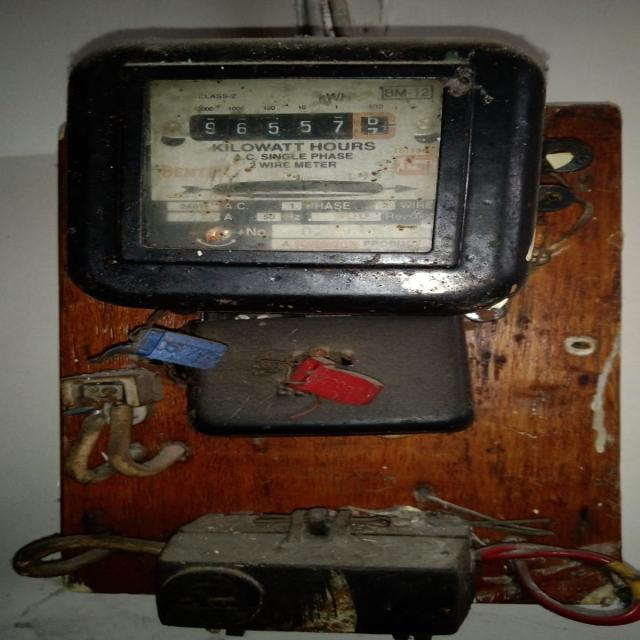display: (184, 110, 407, 144)
